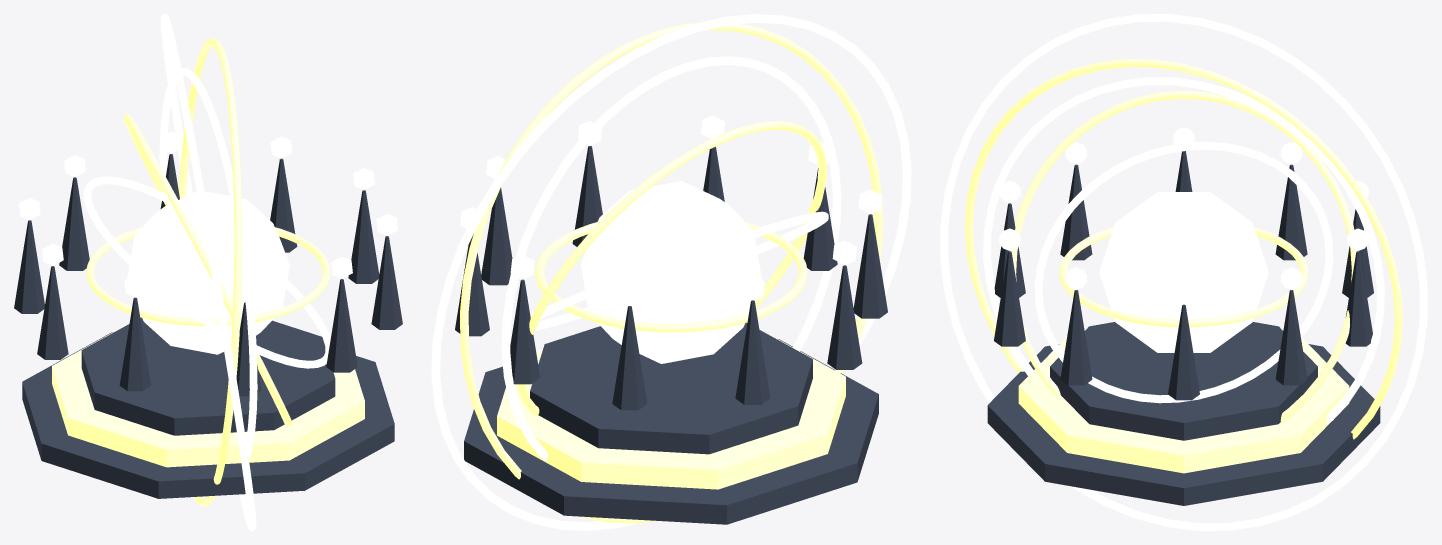
The model's file is gpu-blender-totem.glb.
3 renders of one model, left to right at view 1: azimuth 30°, elevation 25°; view 2: azimuth 150°, elevation 25°; view 3: azimuth 270°, elevation 25°, orthographic. The views are drawn at different scales.
Parts seen in each view (by area): view 1: Cylinder.002, Cylinder, SovereignCore_agent-egress-sentinel, Cylinder.001, Torus.005, Torus.004, Torus.001, Torus.003, Torus, Torus.002, Cone.006, Cone.008 (+7 smaller); view 2: Cylinder.002, SovereignCore_agent-egress-sentinel, Cylinder, Cylinder.001, Torus.005, Torus.003, Torus.004, Torus.002, Torus, Torus.001, Cone.003, Cone.004 (+8 smaller); view 3: SovereignCore_agent-egress-sentinel, Cylinder.002, Cylinder, Cylinder.001, Torus.005, Torus.004, Torus.003, Torus.001, Torus.002, Torus, Cone, Cone.001 (+7 smaller).
Boxes of the visible parts, bbox=[...] form: Cylinder.002: bbox=[81, 317, 335, 435]; Cylinder: bbox=[22, 332, 394, 498]; SovereignCore_agent-egress-sentinel: bbox=[127, 191, 289, 354]; Cylinder.001: bbox=[52, 324, 364, 467]; Torus.005: bbox=[160, 14, 256, 530]; Torus.004: bbox=[178, 38, 241, 506]; Torus.001: bbox=[83, 176, 330, 368]; Torus.003: bbox=[159, 68, 257, 458]; Torus: bbox=[86, 227, 330, 326]; Torus.002: bbox=[123, 114, 292, 425]; Cone.006: bbox=[119, 297, 150, 391]; Cone.008: bbox=[326, 279, 357, 372]; Cylinder.002: bbox=[530, 322, 812, 454]; SovereignCore_agent-egress-sentinel: bbox=[581, 181, 761, 363]; Cylinder: bbox=[464, 339, 878, 524]; Cylinder.001: bbox=[497, 330, 845, 489]; Torus.005: bbox=[431, 14, 911, 530]; Torus.003: bbox=[501, 56, 841, 461]; Torus.004: bbox=[460, 22, 882, 523]; Torus.002: bbox=[517, 121, 826, 415]; Torus: bbox=[535, 222, 807, 332]; Torus.001: bbox=[530, 211, 828, 330]; Cone.003: bbox=[612, 306, 647, 410]; Cone.004: bbox=[735, 300, 770, 404]; SovereignCore_agent-egress-sentinel: bbox=[1099, 192, 1268, 352]; Cylinder.002: bbox=[1050, 322, 1317, 440]; Cylinder: bbox=[987, 344, 1380, 505]; Cylinder.001: bbox=[1018, 336, 1349, 473]; Torus.005: bbox=[940, 14, 1427, 530]; Torus.004: bbox=[965, 59, 1402, 439]; Torus.003: bbox=[983, 77, 1384, 423]; Torus.001: bbox=[1034, 141, 1333, 403]; Torus.002: bbox=[1010, 90, 1357, 423]; Torus: bbox=[1059, 227, 1308, 327]; Cone: bbox=[1168, 304, 1199, 400]; Cone.001: bbox=[1275, 290, 1307, 385].
Bounding box in the file's own units: 4.41 × 5.93 × 5.46.
